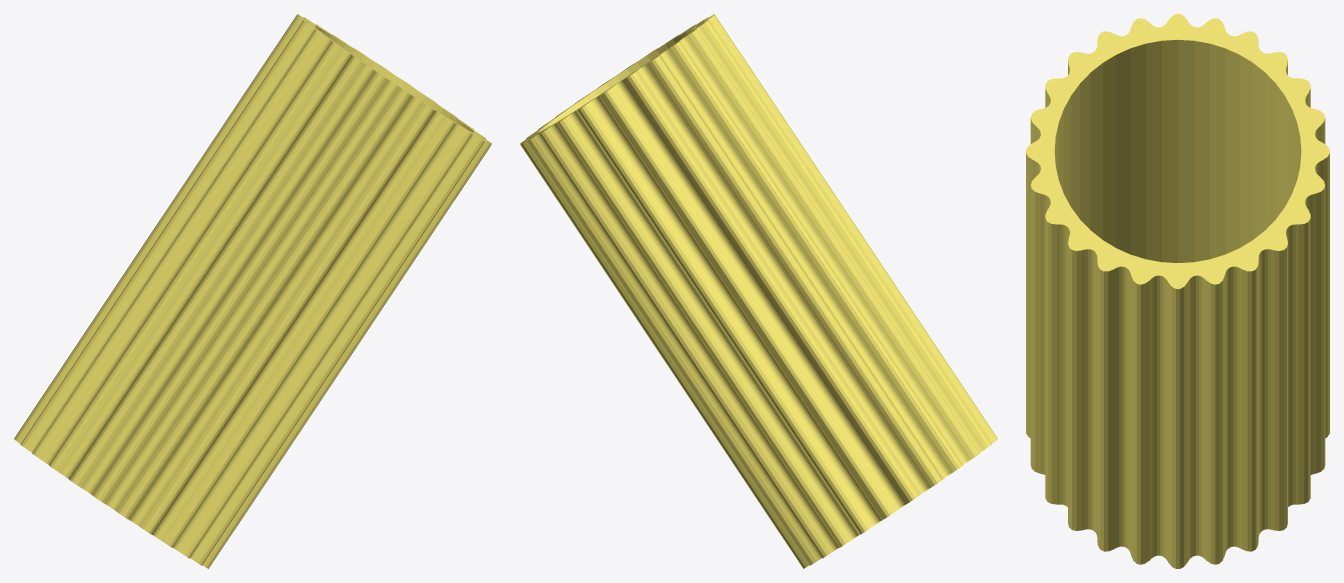
The model's file is Rigatoni.005.gltf.
3 renders of one model, left to right at view 1: azimuth 30°, elevation 25°; view 2: azimuth 150°, elevation 25°; view 3: azimuth 270°, elevation 25°, orthographic. The views are drawn at different scales.
Parts seen in each view (by area): view 1: Rigatoni.005; view 2: Rigatoni.005; view 3: Rigatoni.005.
Boxes of the visible parts, x1,y1,x2,y2 form: Rigatoni.005: (14,14,491,568); Rigatoni.005: (520,14,997,568); Rigatoni.005: (1026,14,1329,568).
Size of the model in its own units: 2.95 by 3.15 by 1.37.
